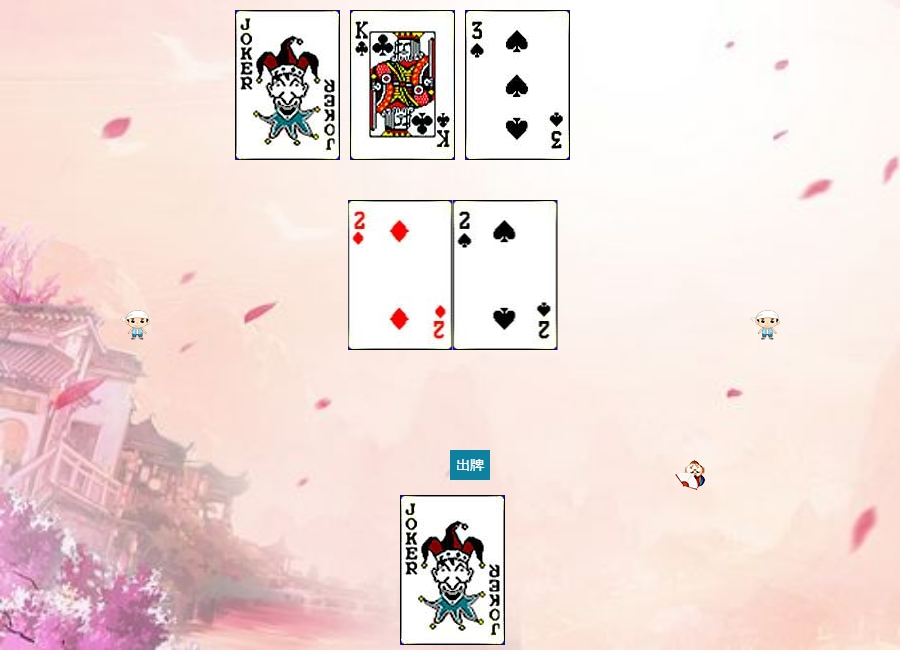13~2: (350, 10, 455, 160)
15~1: (348, 200, 453, 350)
15~4: (453, 200, 558, 350)
17~3: (235, 10, 340, 160), (400, 495, 505, 645)
3~4: (465, 10, 570, 160)
